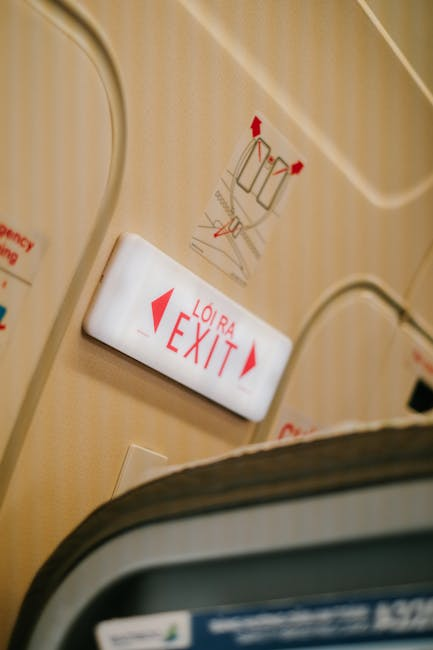emergency_exit: (80, 231, 295, 424)
